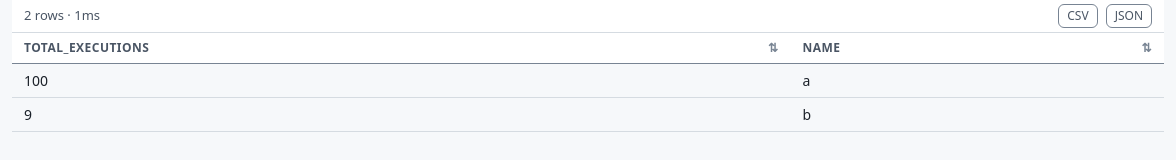
Test: ResultsTable › column sorting › shows a neutral sort glyph on every header at rest, and a direction arrow on the active column
The width and height of the screenshot is (1176, 160).
Expected: the 1st text with class "col-sort-arrow" reads "⇅", [768,39,778,56]
Expected: the 2nd text with class "col-sort-arrow" reads "⇅", [1142,39,1152,56]
Click the button "total_executions ⇅". click: point(87, 48)
box: [12,33,791,63]
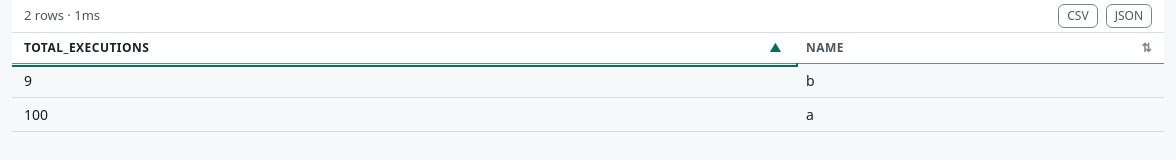
Expected: the text with class "col-sort-arrow" reads "⇅", [1142,39,1152,56]
Result: the text with class "col-sort-arrow" reads "▲" at [769,39,782,56]
